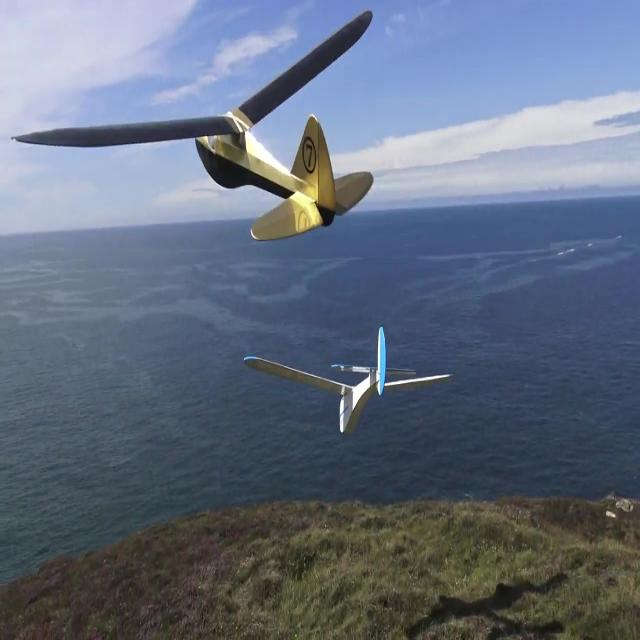iha: (11, 0, 374, 178), (243, 358, 454, 403)
